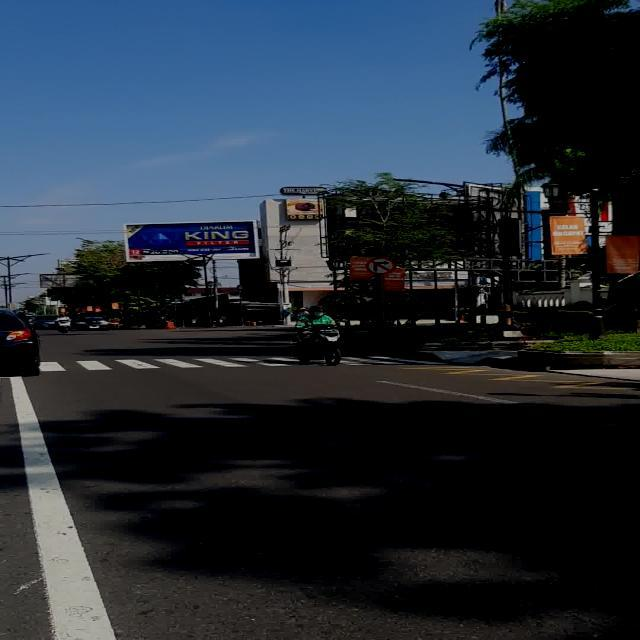Dilarang Belok Kanan: (366, 257, 396, 275)
